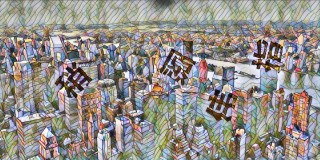伟: (199, 89, 247, 129)
愿: (151, 43, 196, 86)
指: (248, 37, 294, 77)
稍: (47, 54, 97, 99)
